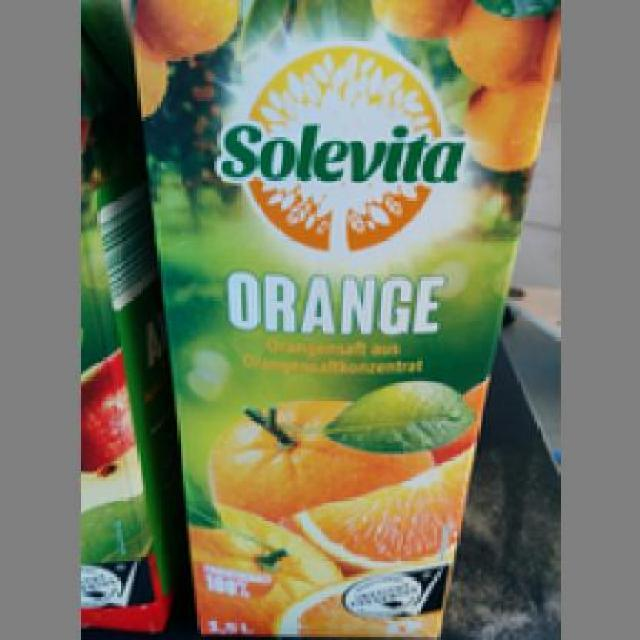Juice: (123, 0, 561, 635)
